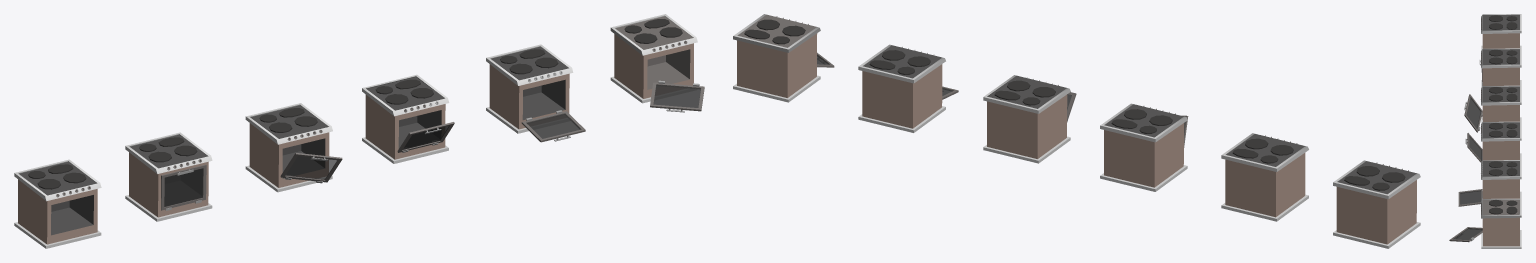
Rendered from ovens.fbx.
3 views of the same model, side by side, from view 1: azimuth 30°, elevation 25°; view 2: azimuth 150°, elevation 25°; view 3: azimuth 270°, elevation 25° (orthographic). The views are drawn at different scales.
Visible parts, largest first — view 1: pCube36, pCylinder11, pCube34, pCube35, pCube37, pCube38; view 2: pCylinder11, pCube36, pCube35, pCube34, pCube37, pCube38; view 3: pCube36, pCylinder11, pCube34, pCube35, pCube38, pCube37.
Part boxes in pixels (x1=…): pCube36: x1=610, y1=14, x2=704, y2=112; pCylinder11: x1=486, y1=44, x2=585, y2=142; pCube34: x1=245, y1=103, x2=342, y2=192; pCube35: x1=362, y1=74, x2=454, y2=163; pCube37: x1=14, y1=159, x2=101, y2=248; pCube38: x1=125, y1=132, x2=212, y2=221; pCylinder11: x1=858, y1=44, x2=958, y2=132; pCube36: x1=733, y1=14, x2=834, y2=102; pCube35: x1=983, y1=75, x2=1076, y2=163; pCube34: x1=1100, y1=103, x2=1188, y2=191; pCube37: x1=1333, y1=160, x2=1420, y2=248; pCube38: x1=1221, y1=133, x2=1308, y2=221; pCube36: x1=1449, y1=198, x2=1521, y2=248; pCylinder11: x1=1458, y1=160, x2=1521, y2=206; pCube34: x1=1464, y1=85, x2=1521, y2=132; pCube35: x1=1465, y1=121, x2=1521, y2=162; pCube38: x1=1479, y1=48, x2=1521, y2=87; pCube37: x1=1481, y1=14, x2=1521, y2=49.
Bounding box in the file's own units: 12.93 × 1.01 × 1.96.
